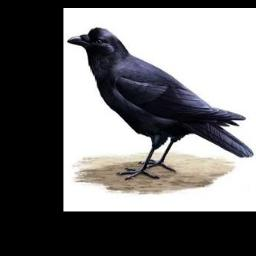Crow: (67, 26, 254, 183)
